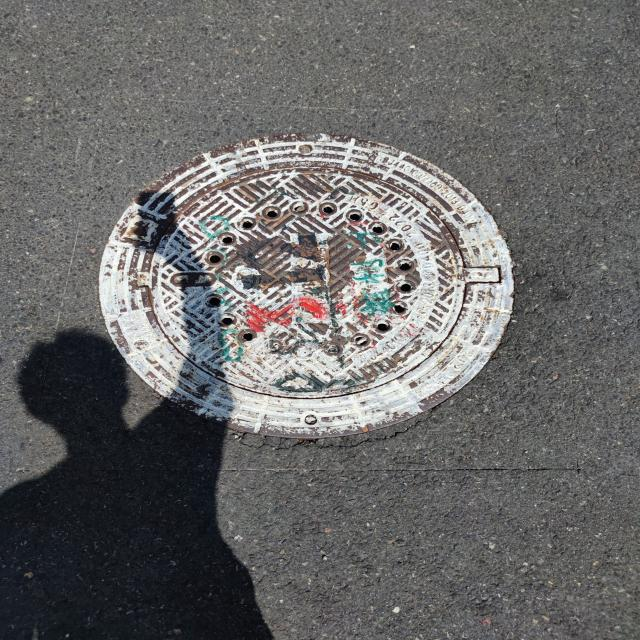Good: (96, 136, 518, 445)
